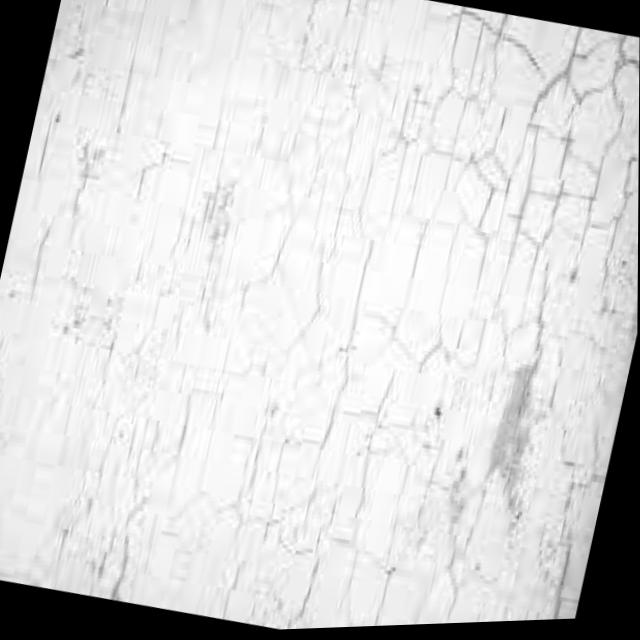Crack: (165, 158, 446, 635), (446, 15, 562, 213)
